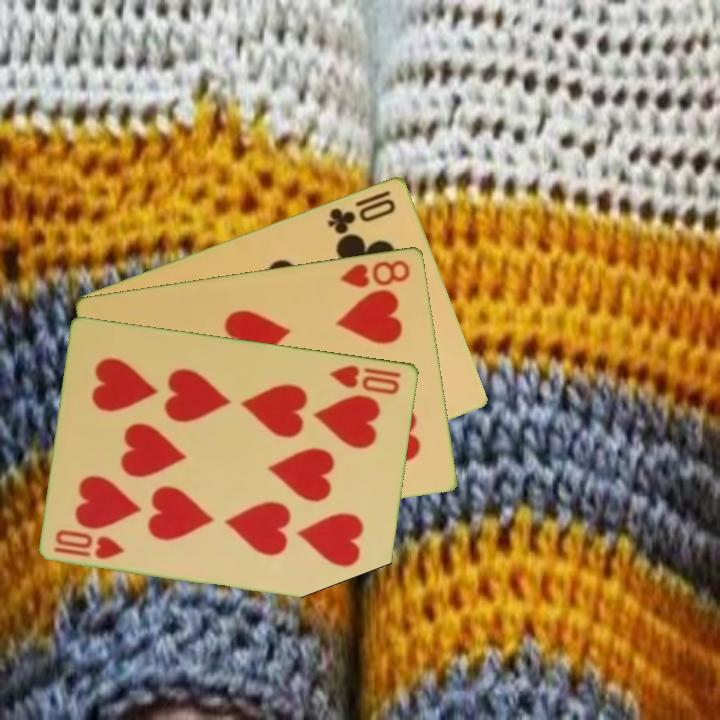10c: (324, 194, 399, 237)
10h: (51, 525, 128, 562), (327, 361, 404, 397)
8h: (337, 256, 413, 291)
